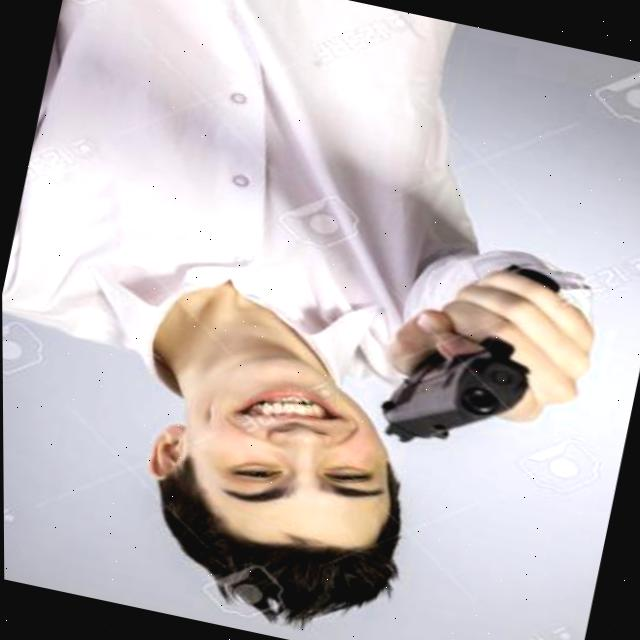pistol: (348, 202, 630, 473)
